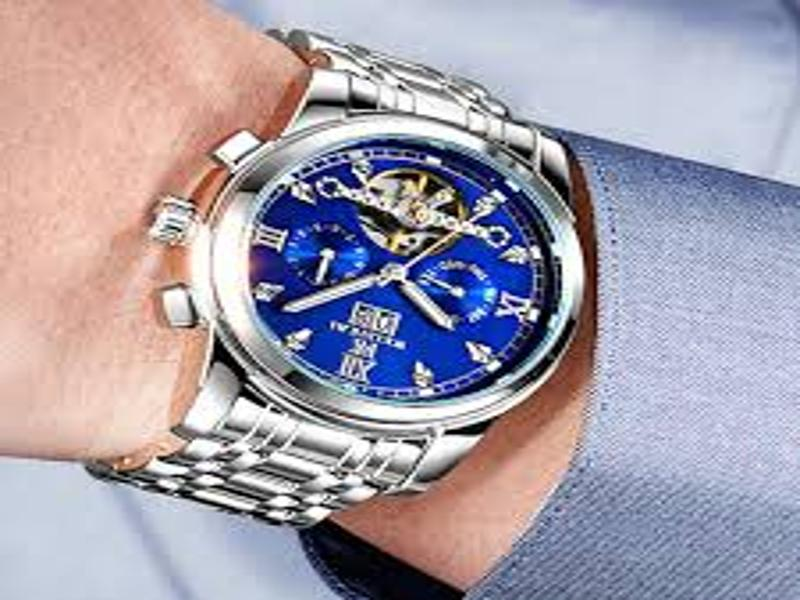watch: (85, 24, 587, 530)
